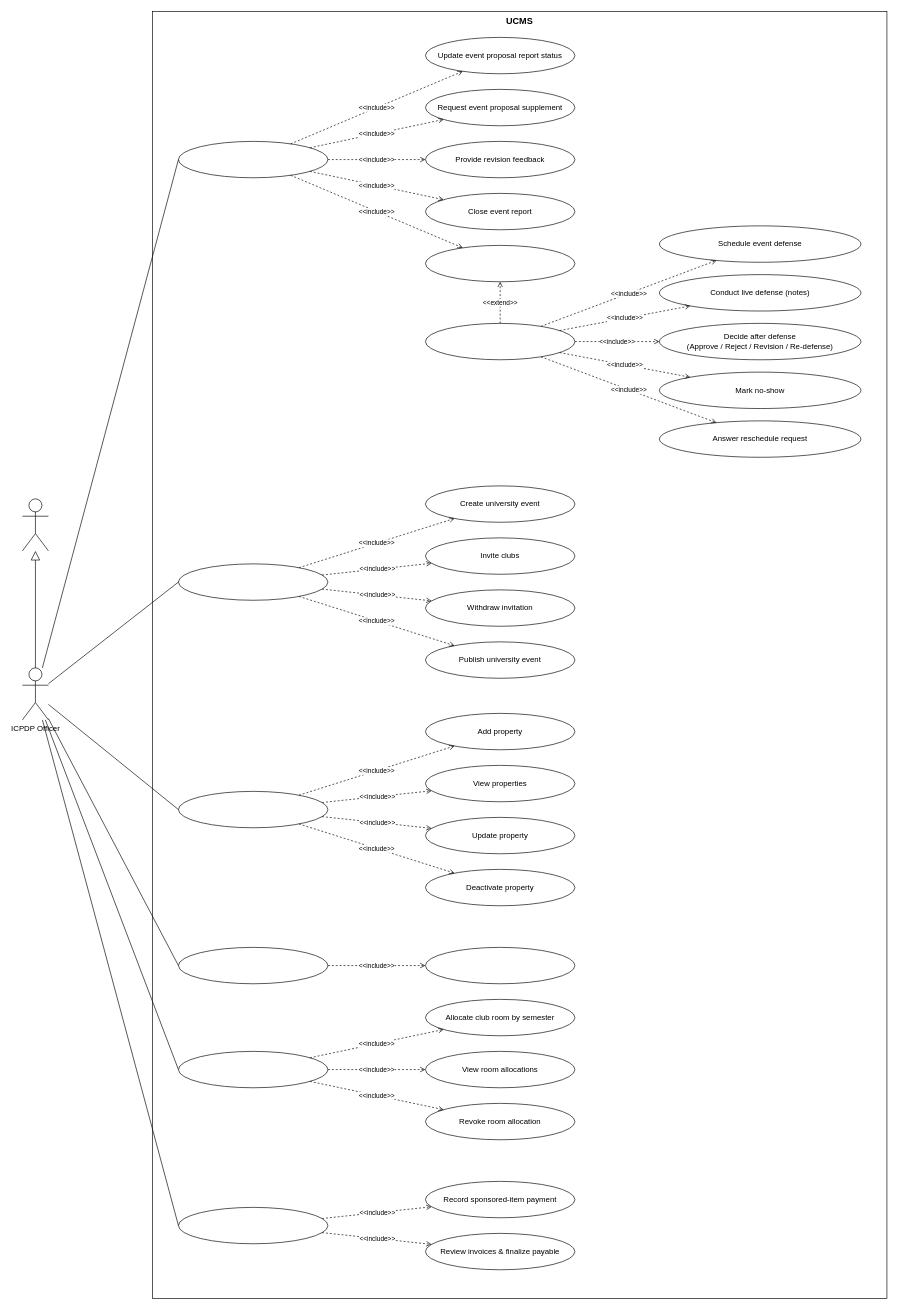
Image size: 898x1310. Some labels were removed from this diagram. The box of each missing label's shape, as (x1, y1, x2, y2) in pixels:
Decide event proposal: (425, 245, 575, 282)
Decide non-room facility request: (425, 947, 575, 984)
Hold event defense: (425, 323, 575, 360)
Manage budget: (178, 1207, 328, 1244)
Manage event oversight: (178, 141, 328, 178)
Manage facility bookings: (178, 947, 328, 984)
Manage properties: (178, 791, 328, 828)
Manage room allocations: (178, 1051, 328, 1088)
Manage university events: (178, 563, 328, 600)
User: (22, 498, 48, 551)
